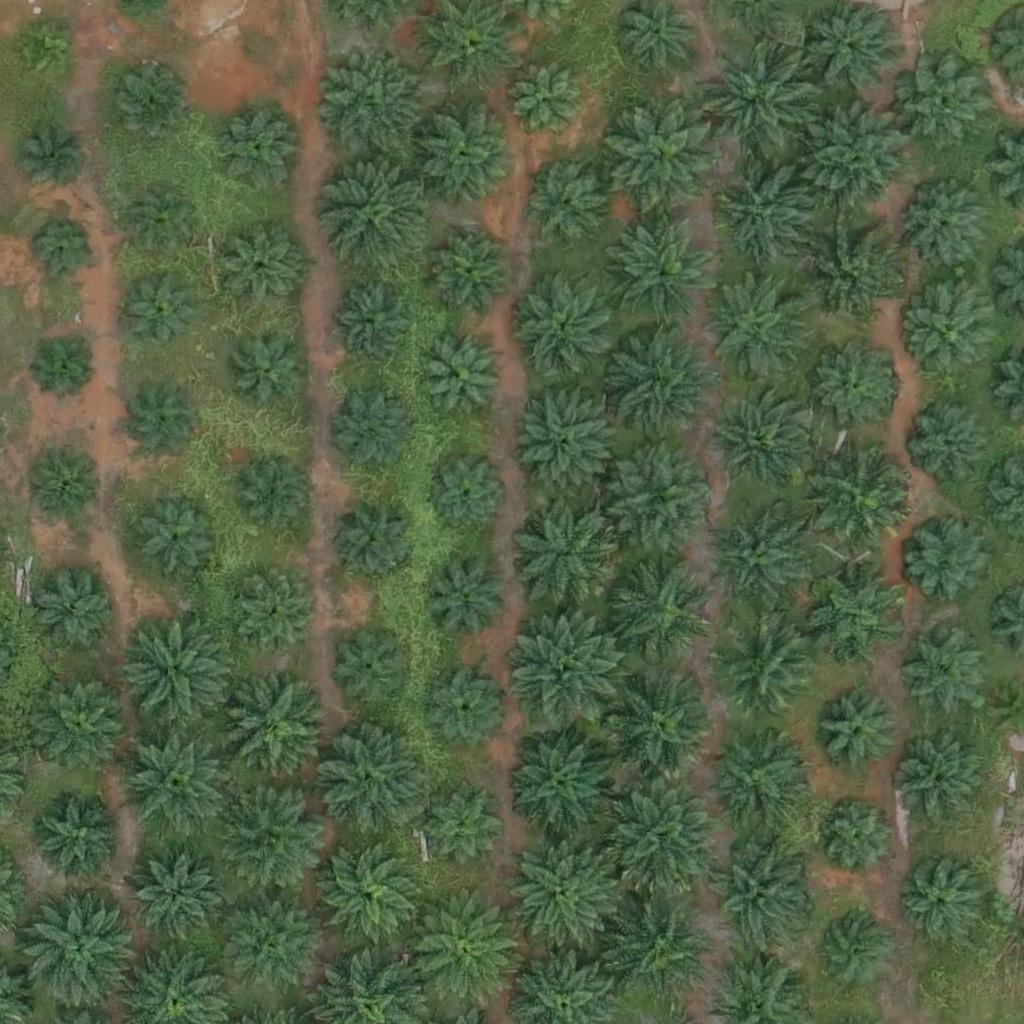Kelapa_Sawit: (16, 882, 141, 1008), (705, 32, 830, 157), (320, 49, 433, 163), (326, 156, 439, 270), (607, 782, 720, 896), (507, 613, 620, 727), (607, 96, 720, 209), (612, 215, 725, 328), (606, 324, 719, 437), (604, 899, 717, 1012), (506, 725, 619, 838), (504, 840, 617, 953), (216, 781, 329, 894), (117, 614, 230, 727), (117, 727, 230, 840), (606, 442, 718, 556), (701, 840, 813, 954), (609, 671, 721, 785), (509, 500, 621, 614), (706, 611, 818, 724), (407, 892, 519, 1005), (314, 721, 426, 834), (316, 838, 428, 951), (215, 674, 327, 787), (720, 162, 820, 263), (710, 277, 810, 378), (710, 398, 810, 499), (808, 108, 908, 209), (800, 224, 900, 325), (814, 447, 914, 548), (887, 726, 987, 827), (809, 568, 909, 669), (32, 674, 132, 775), (419, 107, 519, 207), (516, 274, 616, 374), (519, 388, 619, 488), (713, 509, 813, 609), (710, 731, 810, 831), (609, 560, 709, 660), (136, 496, 224, 585), (906, 286, 994, 375), (809, 6, 897, 94), (810, 341, 898, 429), (906, 398, 994, 486), (905, 518, 993, 606), (903, 623, 991, 711), (232, 568, 320, 656), (37, 795, 125, 883), (27, 566, 114, 655), (421, 557, 508, 645), (427, 451, 514, 539), (336, 496, 423, 584), (900, 60, 987, 148), (902, 185, 989, 273), (899, 857, 986, 945), (813, 689, 900, 777), (425, 660, 512, 748), (420, 780, 507, 868), (229, 905, 316, 993), (132, 855, 219, 943), (127, 179, 202, 255), (111, 69, 186, 145), (225, 230, 300, 306), (823, 798, 898, 874), (220, 110, 295, 186), (340, 283, 415, 359), (338, 397, 413, 473), (432, 236, 507, 312), (427, 340, 502, 416), (534, 169, 609, 245), (818, 908, 893, 984), (509, 62, 584, 137), (126, 386, 201, 461), (231, 458, 306, 533), (233, 330, 308, 405), (127, 270, 202, 345), (14, 125, 89, 200), (28, 215, 103, 290), (26, 329, 101, 404), (29, 453, 104, 528), (333, 632, 408, 707), (12, 23, 75, 86)
